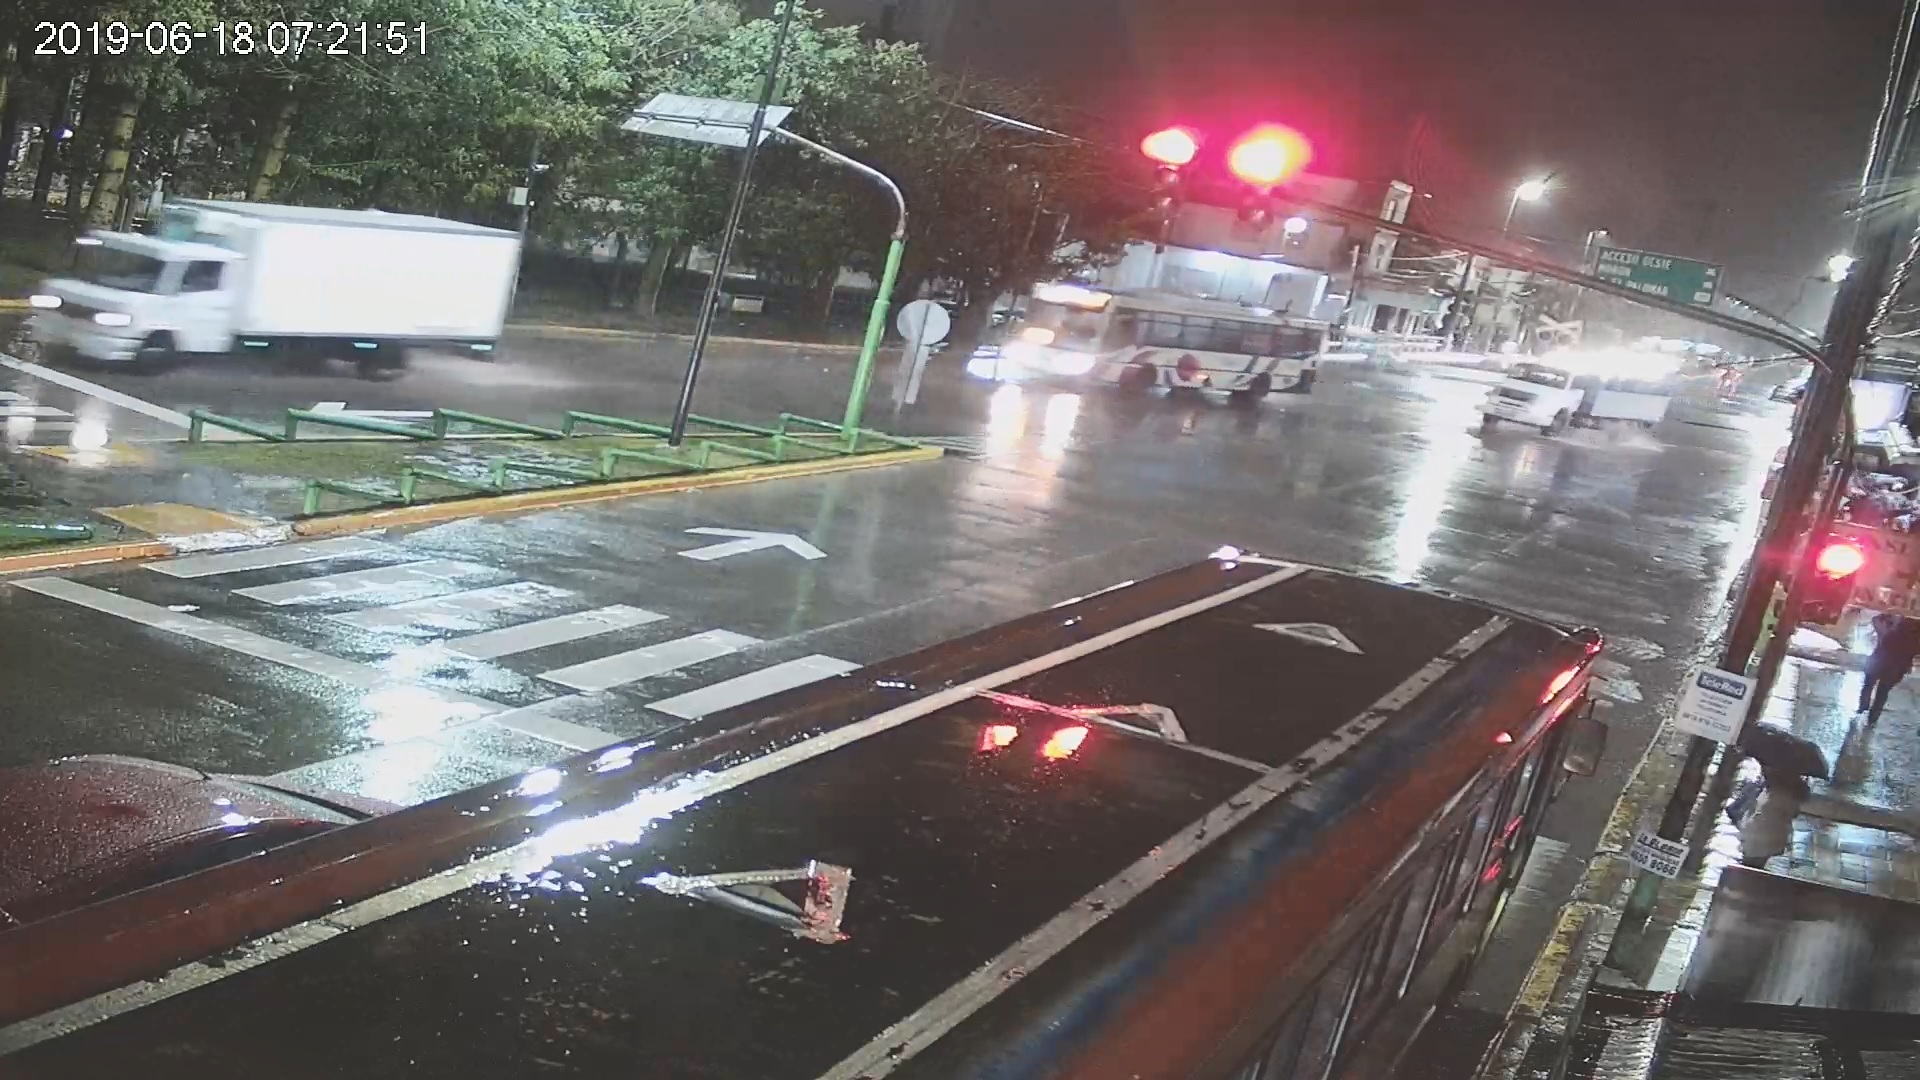bus: (42, 550, 1604, 1080), (1015, 278, 1324, 411)
truck: (33, 193, 524, 378)
